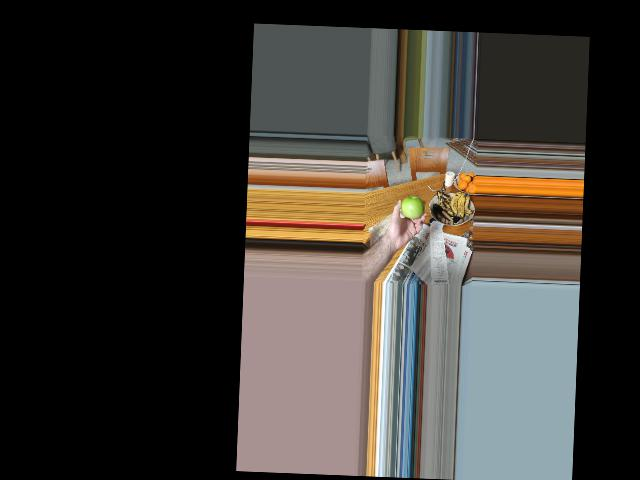apple: (398, 193, 425, 221)
